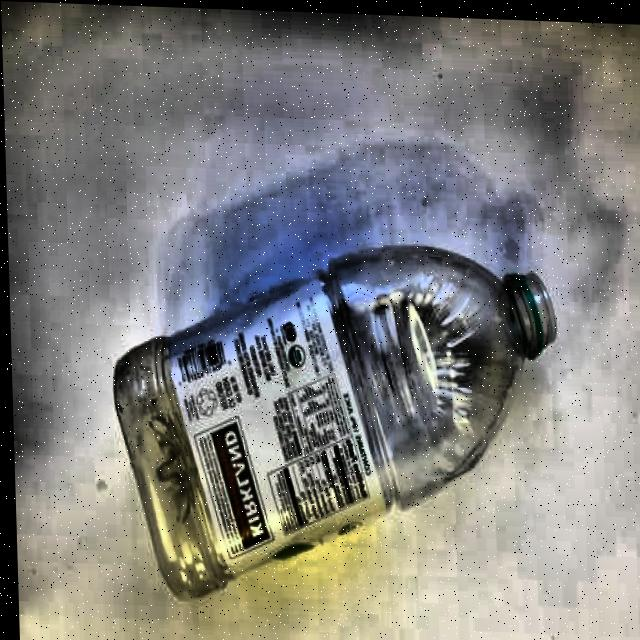plastic: (104, 226, 571, 616)
